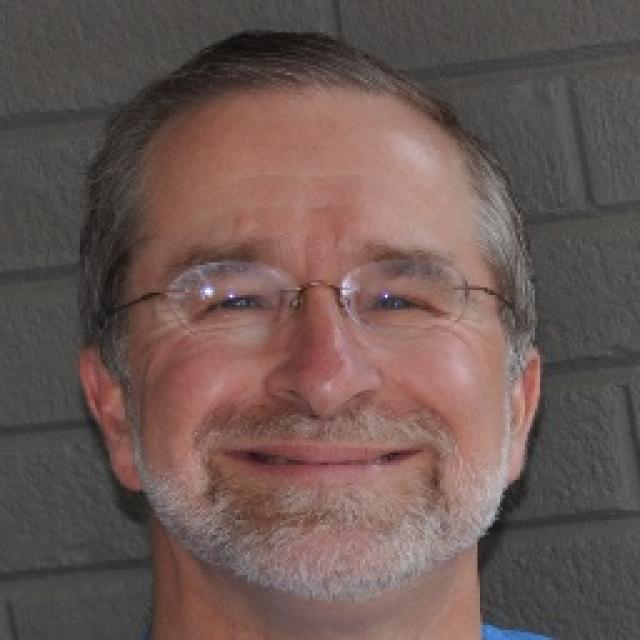earlobe: (76, 344, 146, 497), (503, 348, 541, 486)
